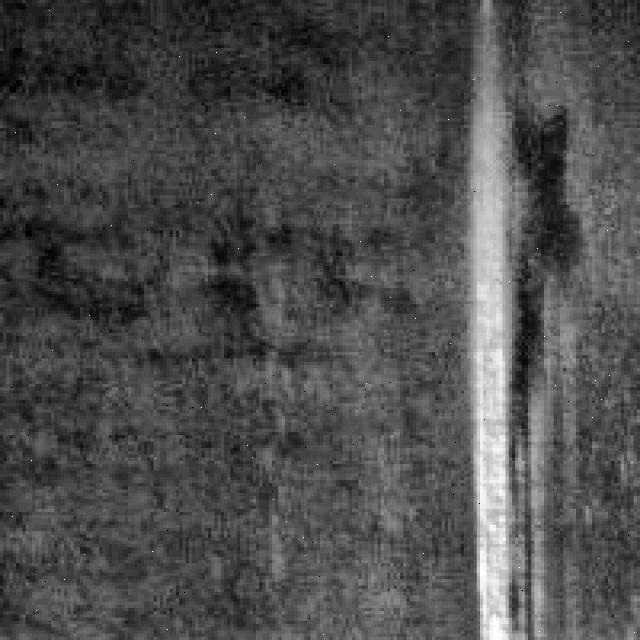Inclusion: (476, 137, 554, 634)
